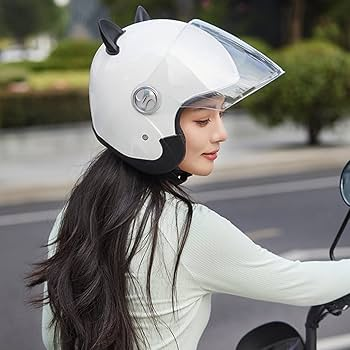helmets: (88, 2, 285, 174)
